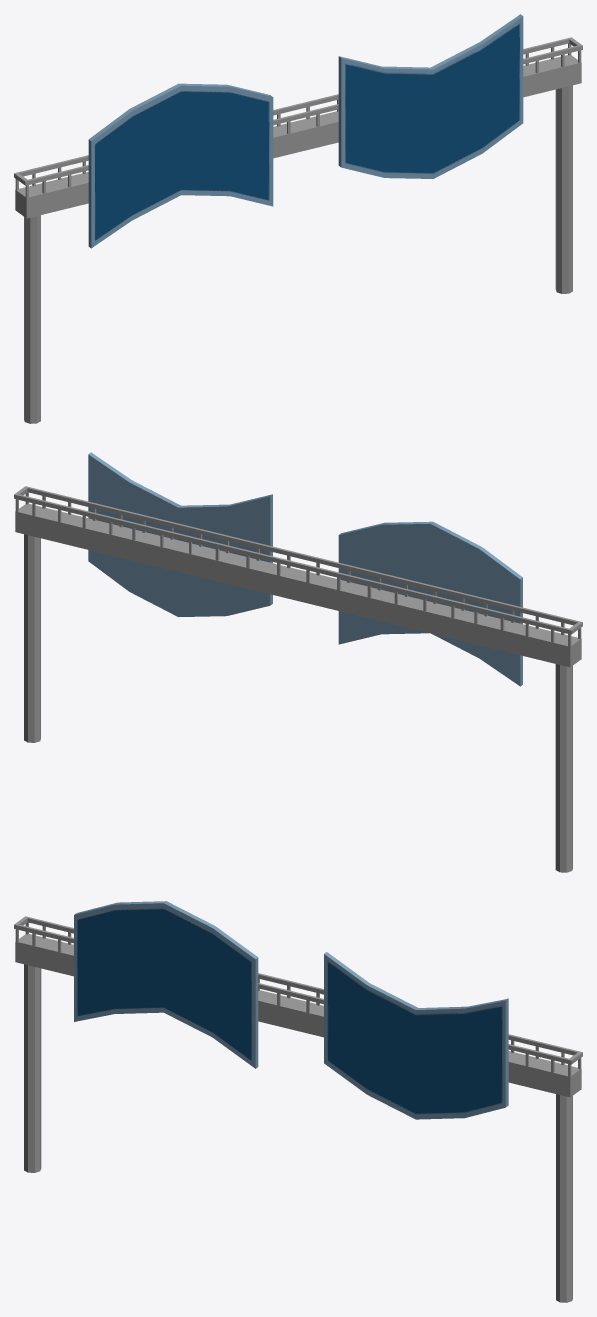
Rendered from zsp.obj.
3 views of the same model, one above another, from view 1: azimuth 30°, elevation 25°; view 2: azimuth 150°, elevation 25°; view 3: azimuth 330°, elevation 25° (orthographic).
Parts seen in each view (by area): view 1: pasted__pCube5; view 2: pasted__pCube5; view 3: pasted__pCube5.
Boxes of the visible parts, x1,y1,x2,y2 form: pasted__pCube5: (14, 14, 582, 423); pasted__pCube5: (14, 452, 582, 872); pasted__pCube5: (14, 901, 582, 1302).
Size of the model in its own units: 24.73 by 13 by 1.12.
